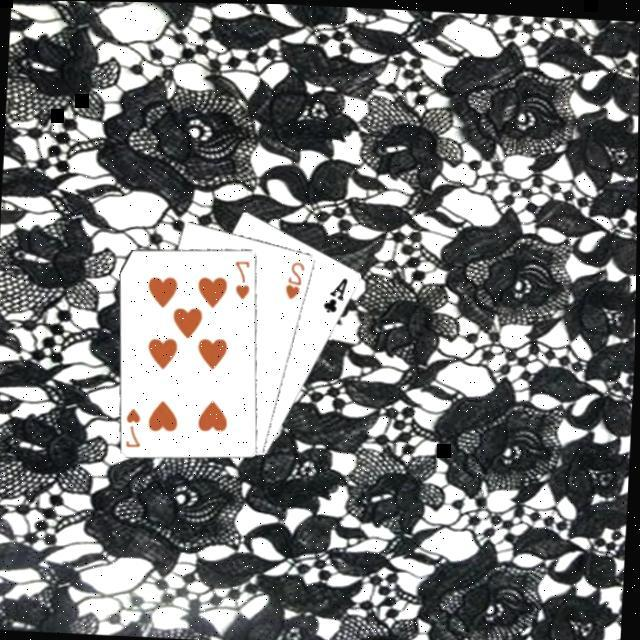2H: (284, 258, 311, 302)
7H: (232, 256, 256, 302), (124, 405, 148, 451)
AC: (322, 272, 354, 316)
